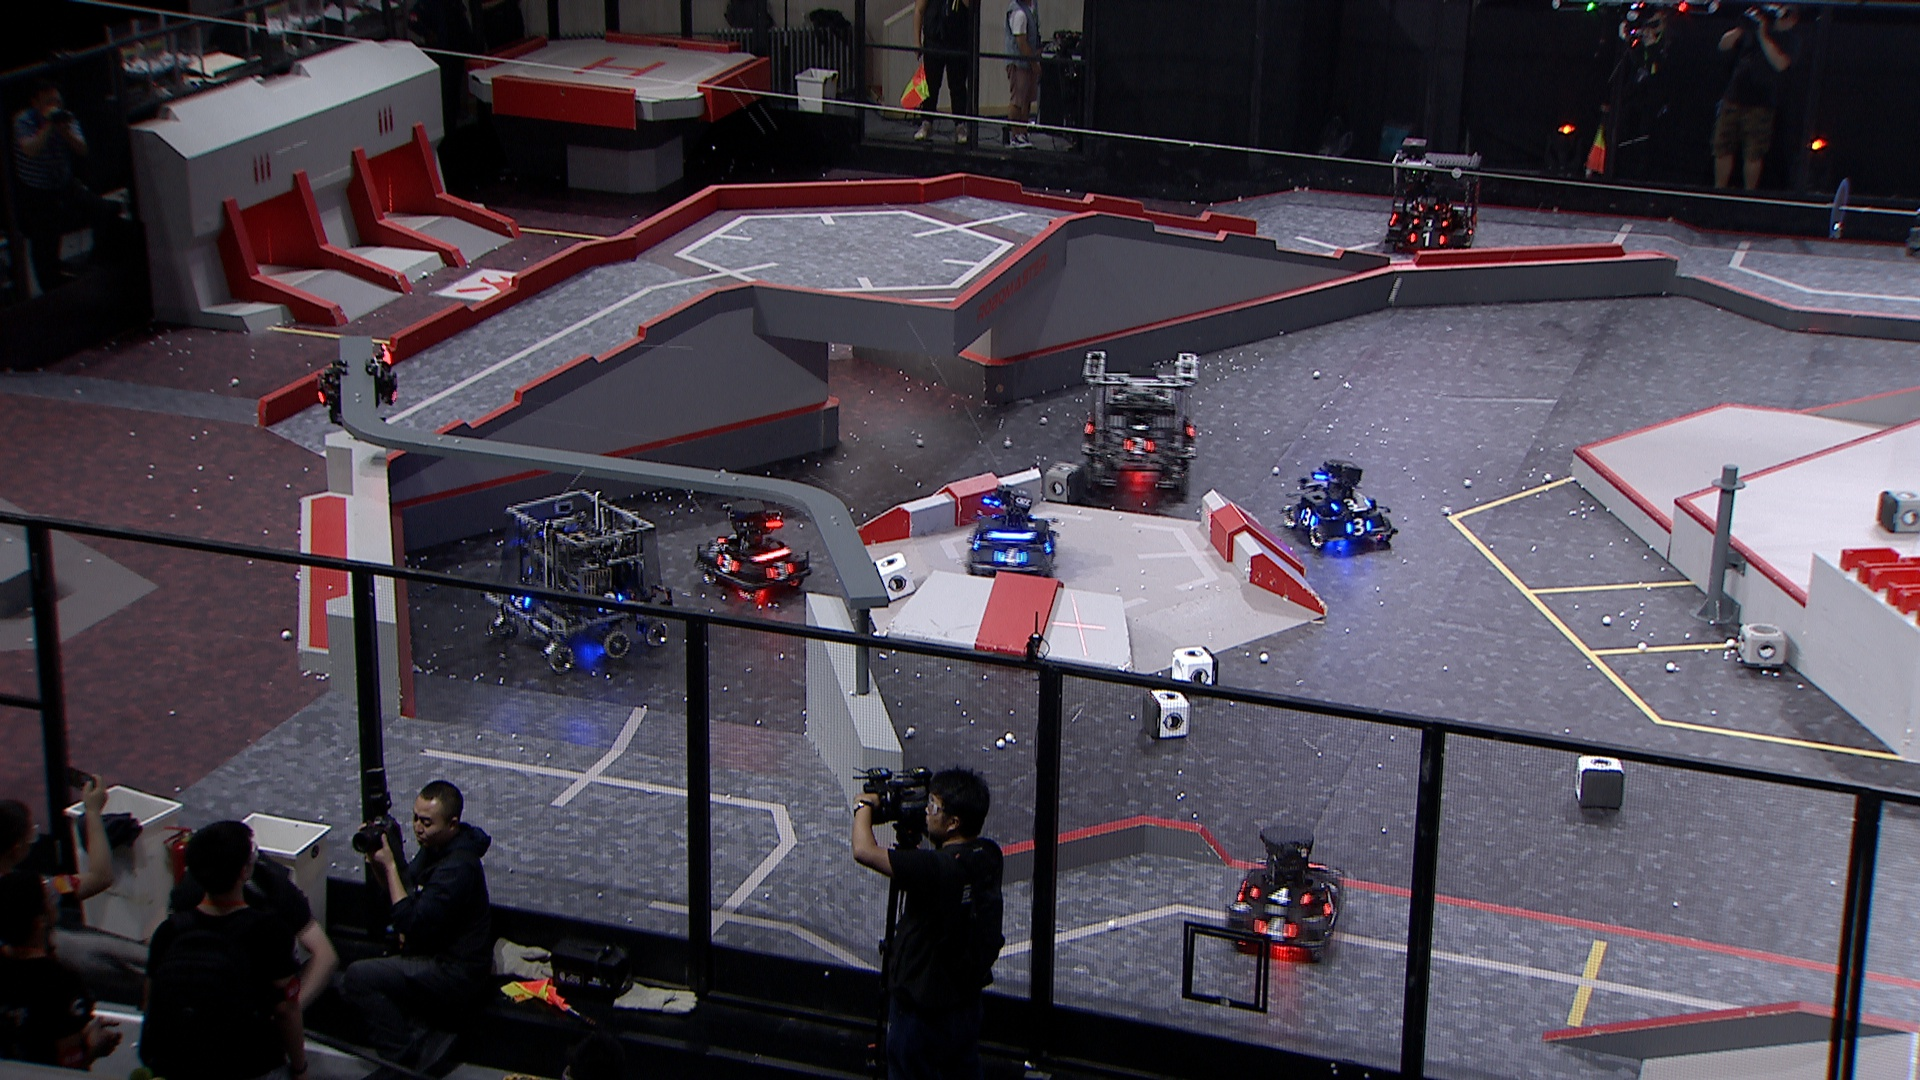armor: (1247, 882, 1313, 906), (1253, 916, 1299, 943), (993, 547, 1031, 570), (596, 591, 626, 617), (1408, 229, 1447, 248), (1331, 495, 1371, 512), (1122, 436, 1155, 458), (765, 560, 798, 582), (713, 553, 742, 576), (1344, 514, 1373, 538), (1410, 215, 1452, 229), (508, 591, 533, 609), (1320, 893, 1338, 916), (1299, 506, 1319, 527), (1466, 219, 1480, 239)
car: (485, 487, 680, 674), (1083, 348, 1203, 498), (1224, 825, 1346, 963), (694, 498, 816, 604), (1385, 135, 1481, 256), (1280, 454, 1399, 550), (965, 483, 1058, 583)
watcher: (315, 343, 400, 434)
